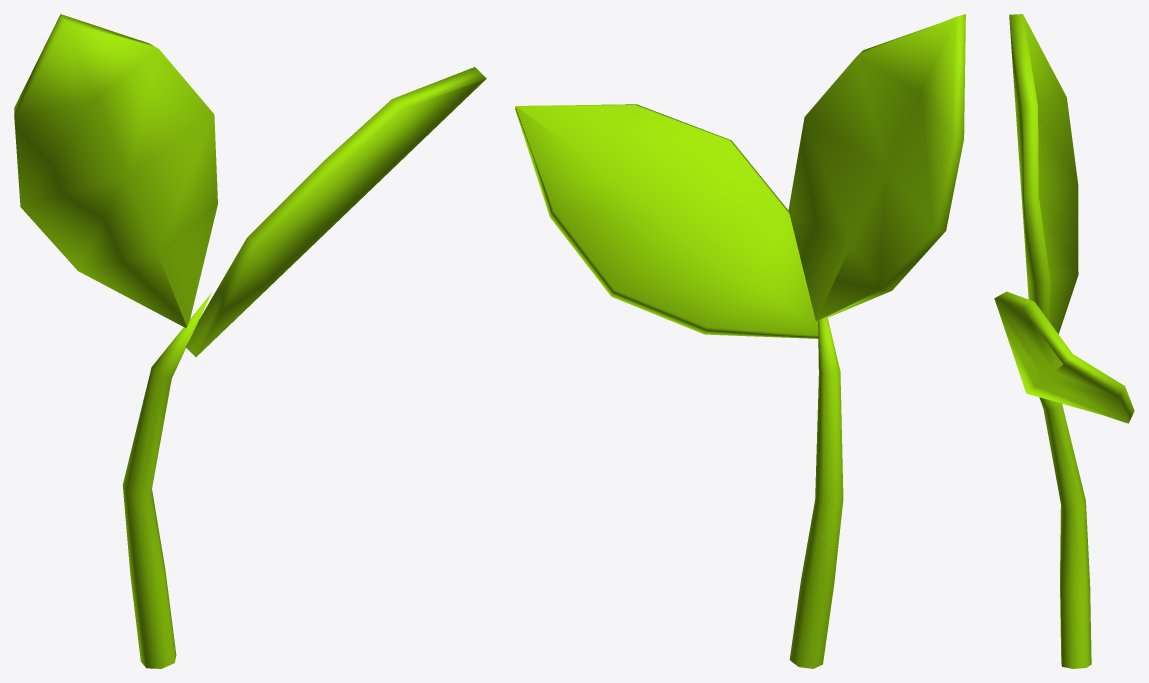
The model's file is flower.fbx.
3 renders of one model, left to right at view 1: azimuth 30°, elevation 25°; view 2: azimuth 150°, elevation 25°; view 3: azimuth 270°, elevation 25°, orthographic. The views are drawn at different scales.
Parts seen in each view (by area): view 1: flower; view 2: flower; view 3: flower.
Part boxes in pixels (box(x1,y1,x2,y2)): flower: box(14, 14, 486, 668); flower: box(515, 14, 965, 668); flower: box(994, 14, 1134, 668).
Bounding box in the file's own units: 199 × 280 × 59.47.
